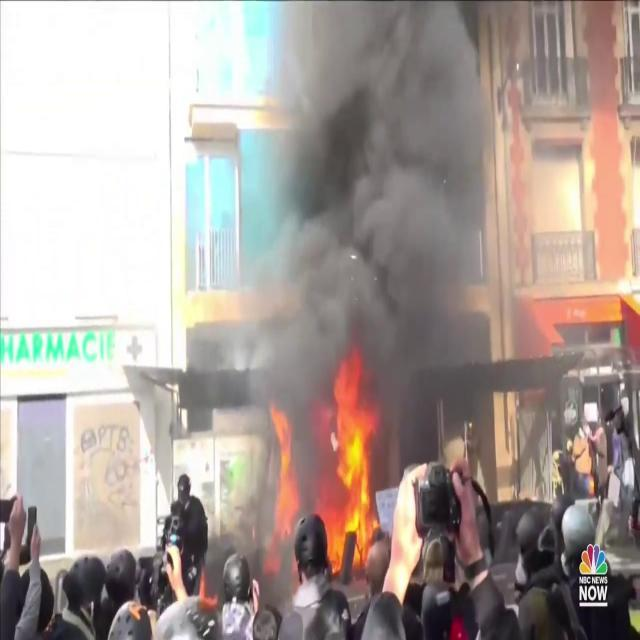Fire: (320, 362, 382, 576), (386, 458, 426, 610), (266, 402, 300, 541)
Smoke: (225, 2, 562, 434)
